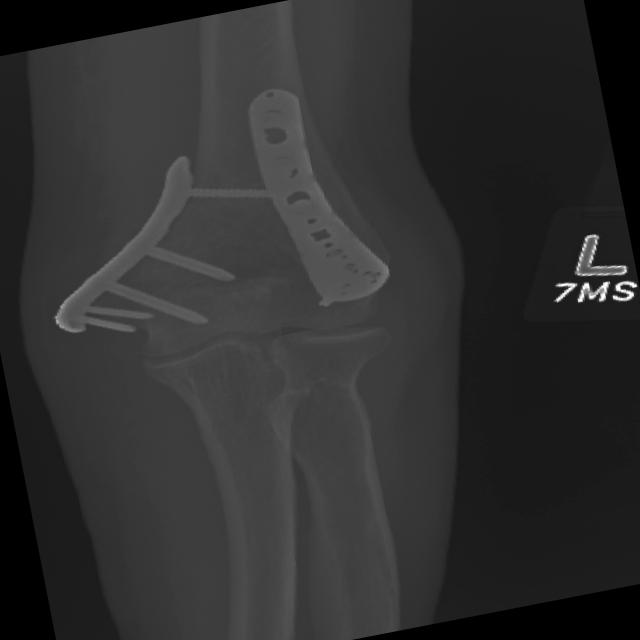elbow positive: (112, 258, 242, 313)
